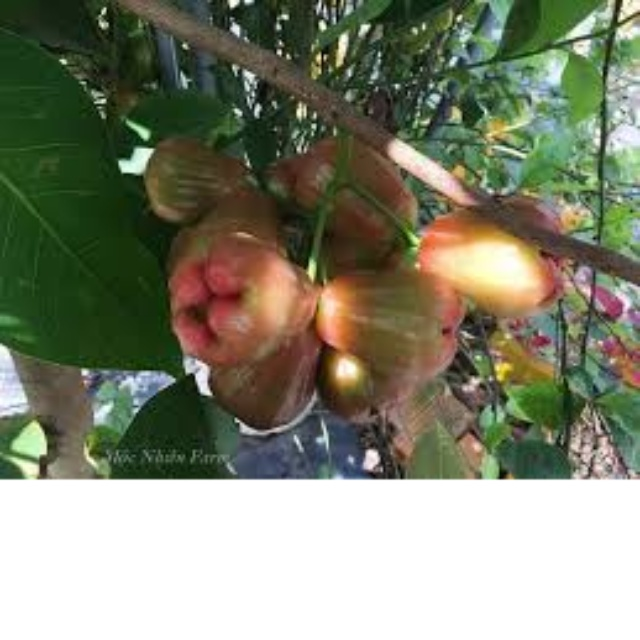xoai: (411, 174, 580, 323), (162, 228, 318, 364), (309, 261, 481, 379)
